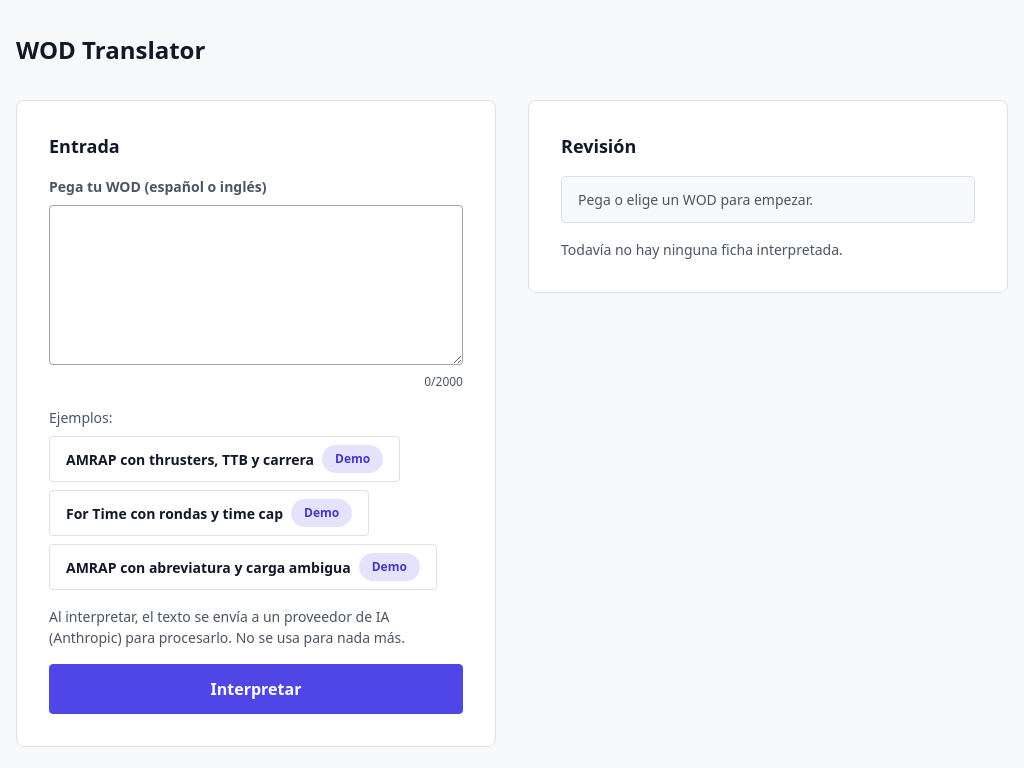
App › preserves the textarea content after a failed interpret
Step 1. Type "AMRAP 10min: 10 burpees" into the text box labelled "Pega tu WOD (español o inglés)" → (256, 285), box [49,205,463,365]
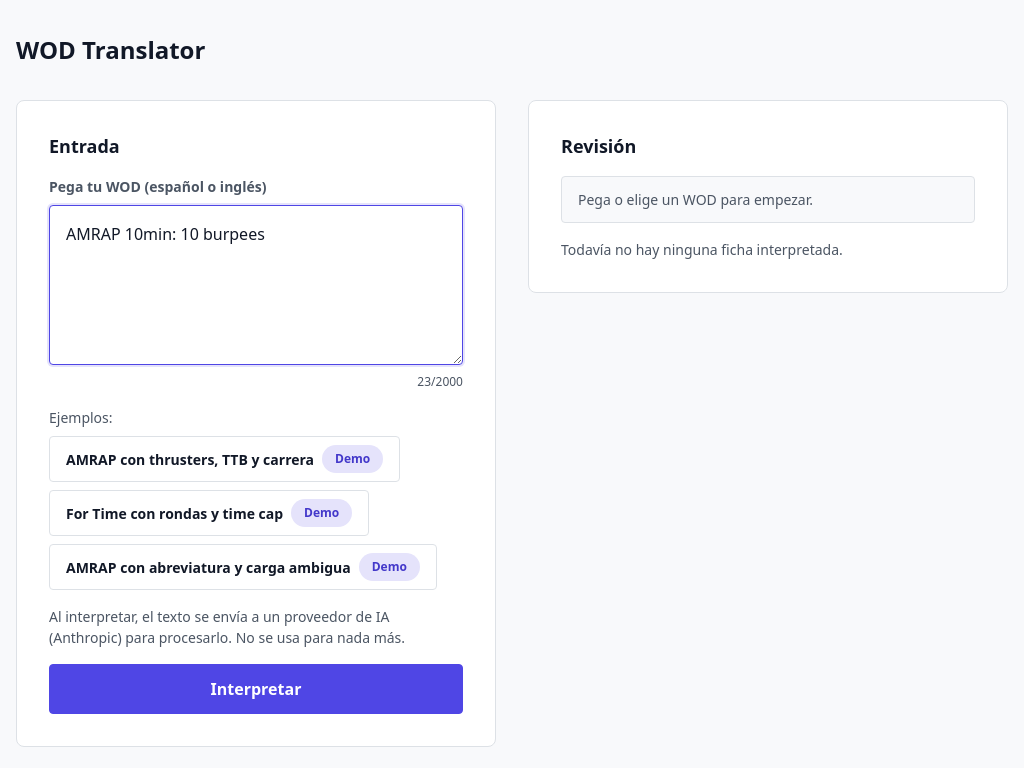
Step 2. Click the button "Interpretar" → (256, 689), box [49,664,463,714]
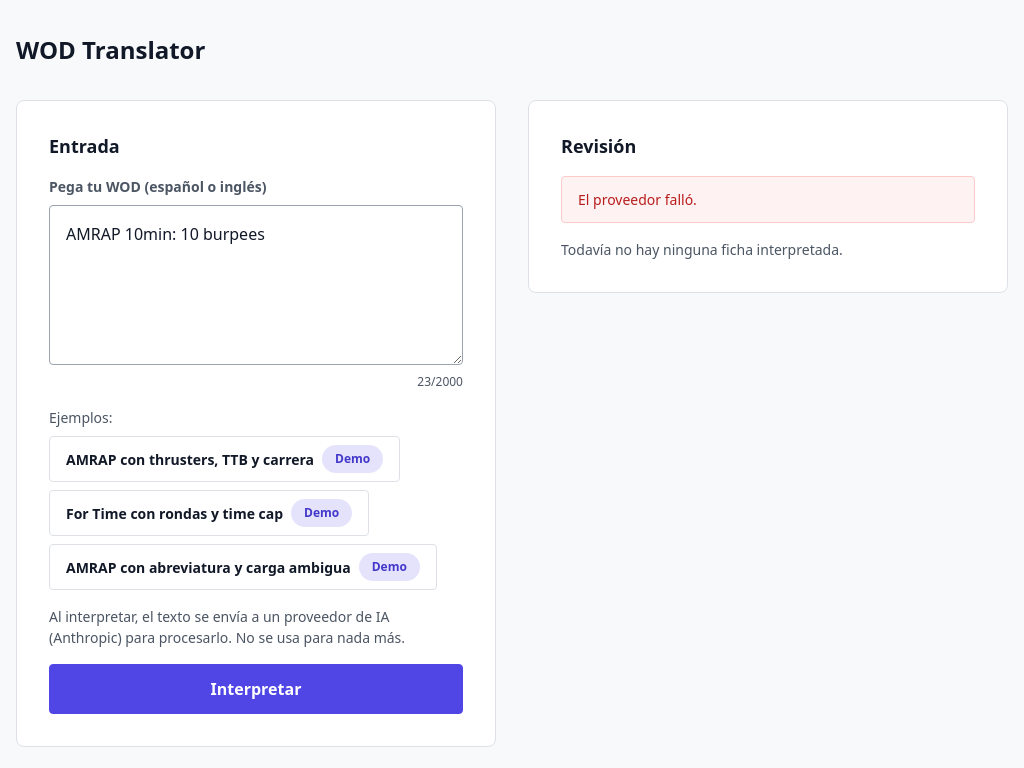
Result: the text "El proveedor falló." is shown at [561,176,975,223]
